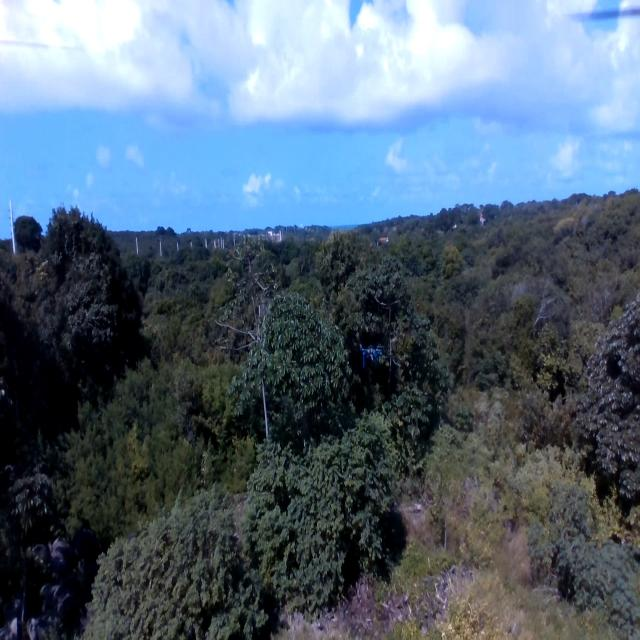-uav-: (360, 341, 382, 375)
